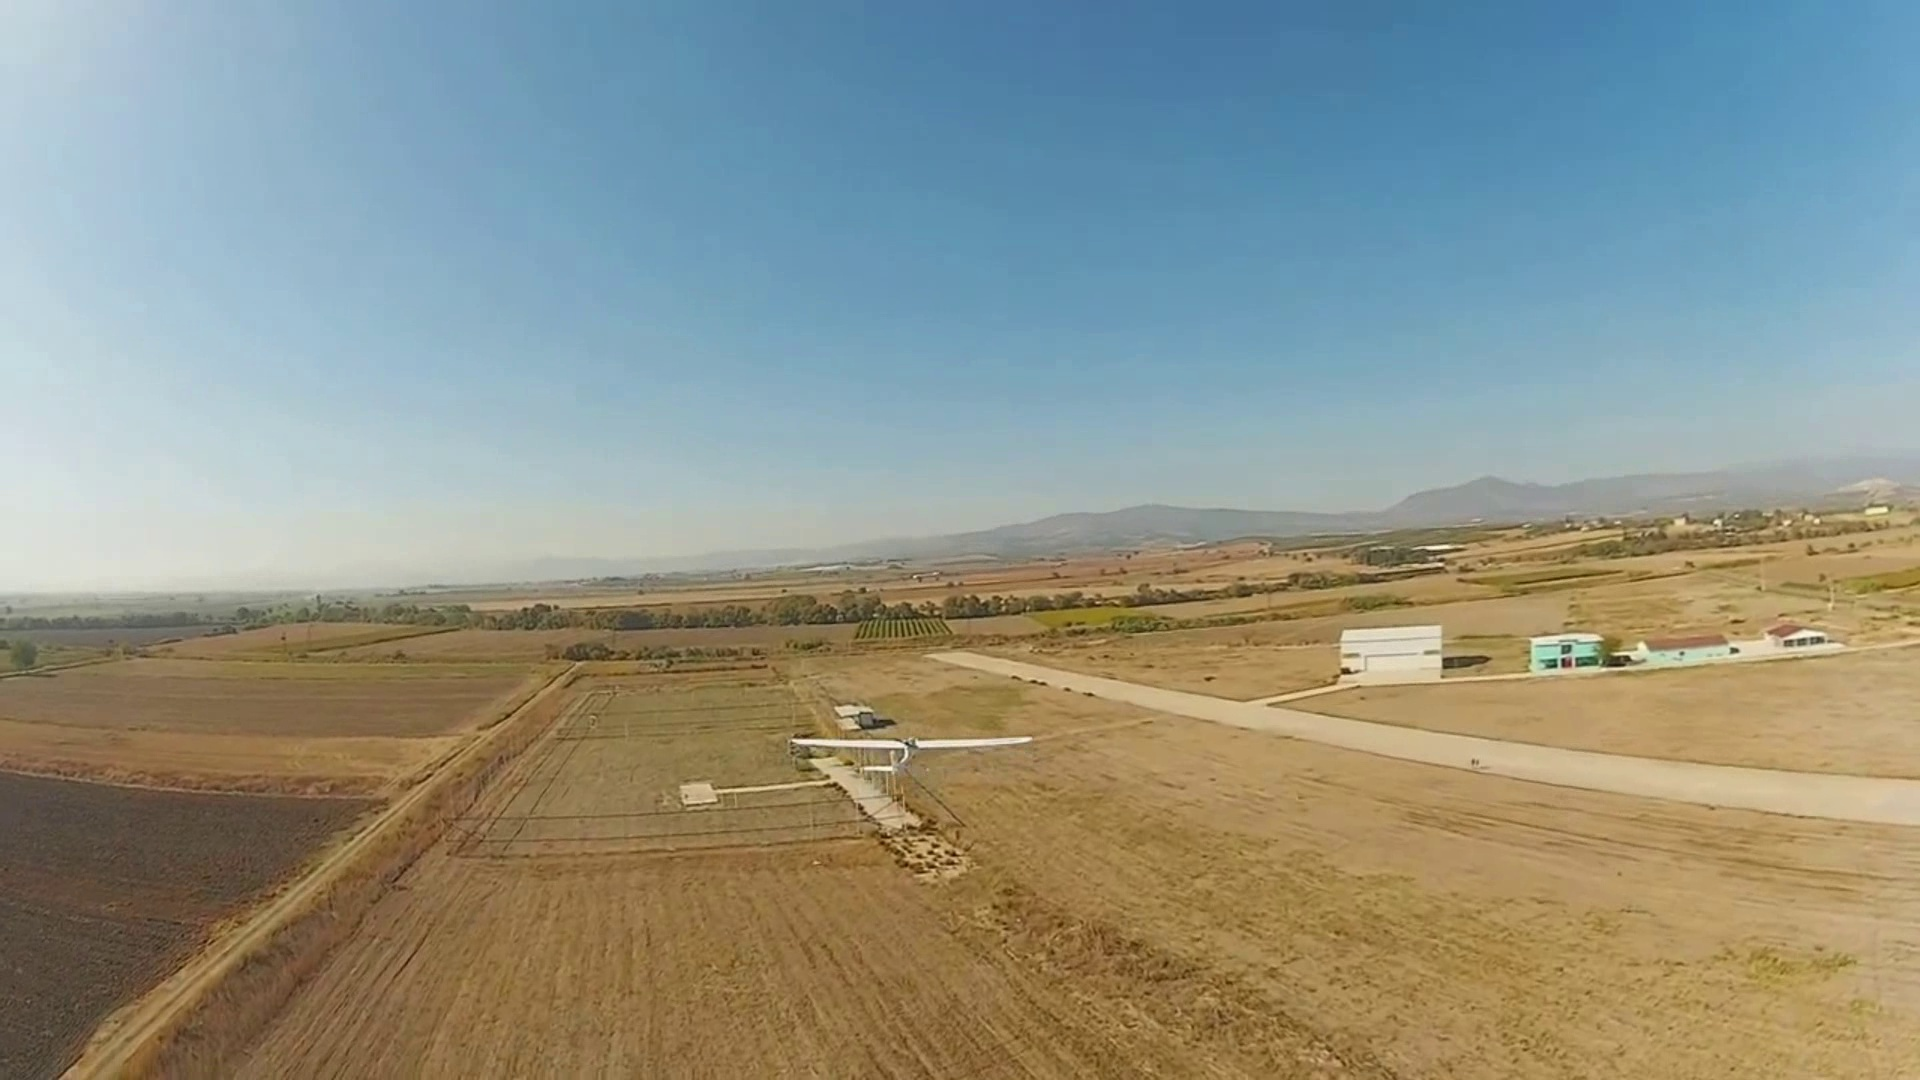airplane: (789, 702, 1035, 875)
